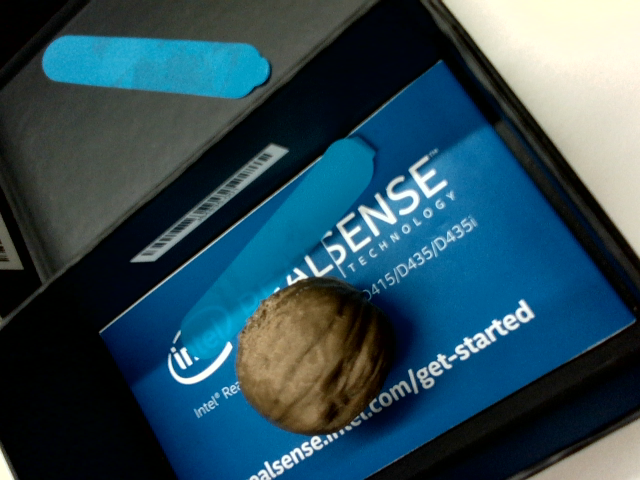walnut: (207, 247, 420, 462)
